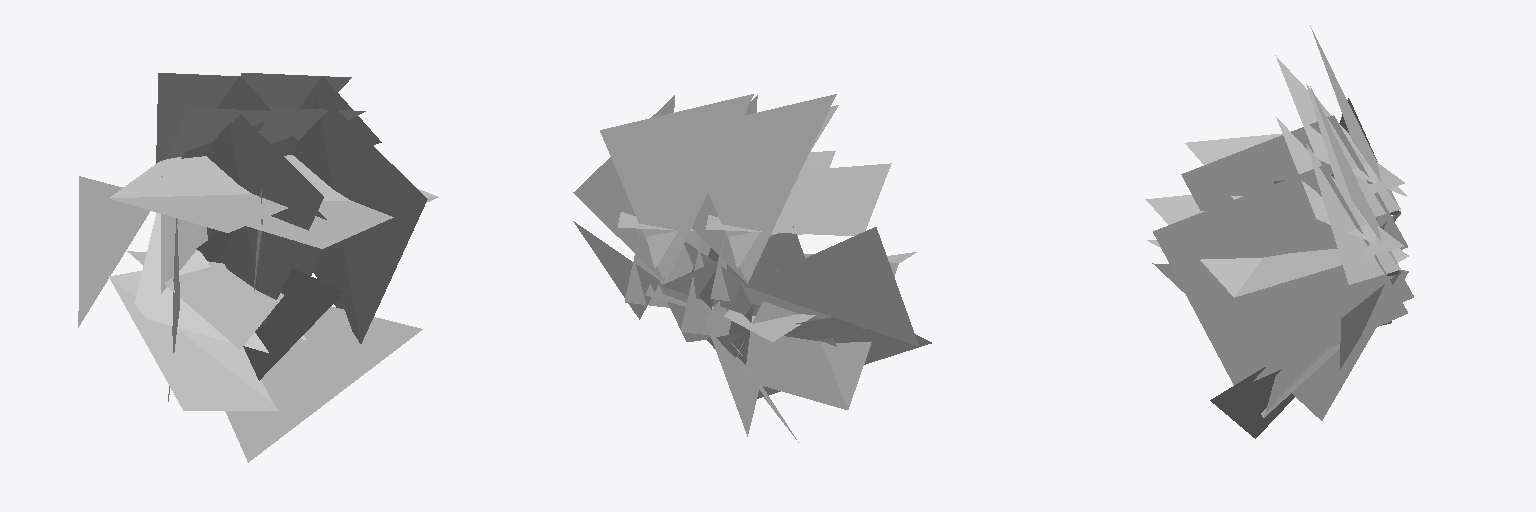
The model's file is thornBush.obj.
3 views of the same model, side by side, from view 1: azimuth 30°, elevation 25°; view 2: azimuth 150°, elevation 25°; view 3: azimuth 270°, elevation 25° (orthographic).
Parts seen in each view (by area): view 1: Untitled.001_africanThornBushOne128; view 2: Untitled.001_africanThornBushOne128; view 3: Untitled.001_africanThornBushOne128.
Boxes of the visible parts, x1,y1,x2,y2 form: Untitled.001_africanThornBushOne128: [78, 73, 438, 462]; Untitled.001_africanThornBushOne128: [573, 94, 931, 442]; Untitled.001_africanThornBushOne128: [1145, 26, 1413, 438].
Size of the model in its own units: 5.04 by 5.65 by 3.57.